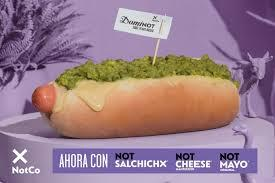Completos: (34, 49, 245, 136)
